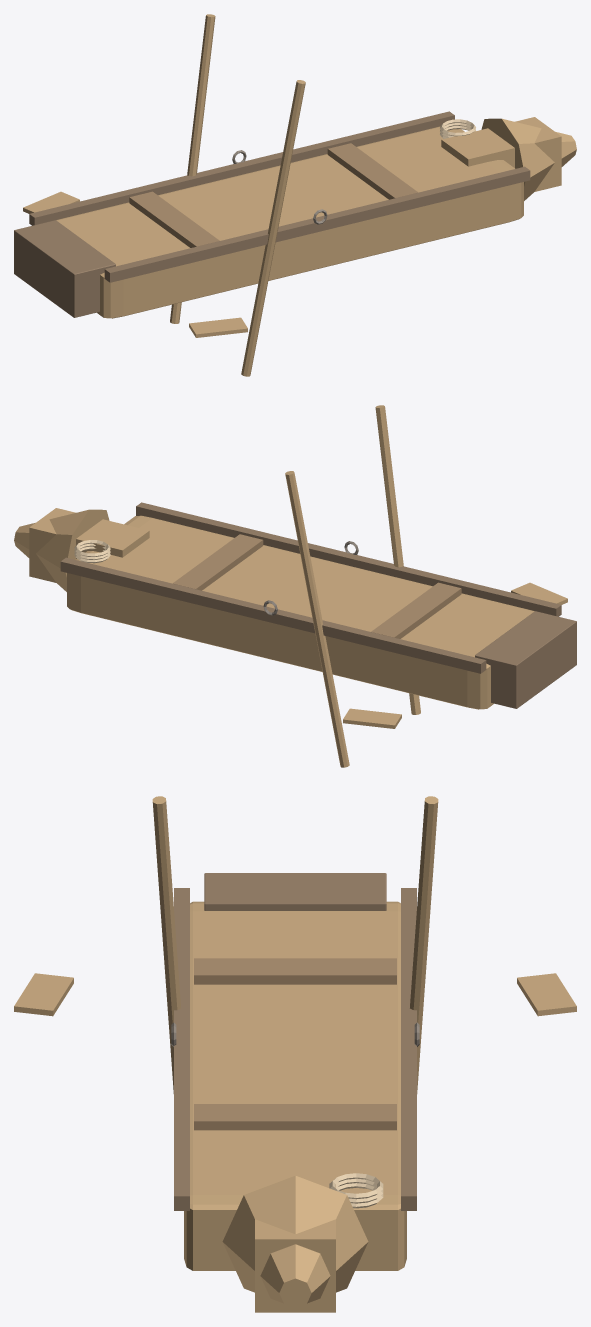
The model's file is rowboat.glb.
The picture shows the model from 3 angles, top to bottom: view 1: azimuth 30°, elevation 25°; view 2: azimuth 150°, elevation 25°; view 3: azimuth 270°, elevation 25°; orthographic projection. The views are drawn at different scales.
Parts seen in each view (by area): view 1: rowboat; view 2: rowboat; view 3: rowboat.
Part boxes in pixels (bbox=[...]): rowboat: bbox=[14, 14, 576, 376]; rowboat: bbox=[14, 405, 576, 767]; rowboat: bbox=[14, 796, 576, 1312].
Size of the model in its own units: 2.26 by 1.19 by 1.39.
